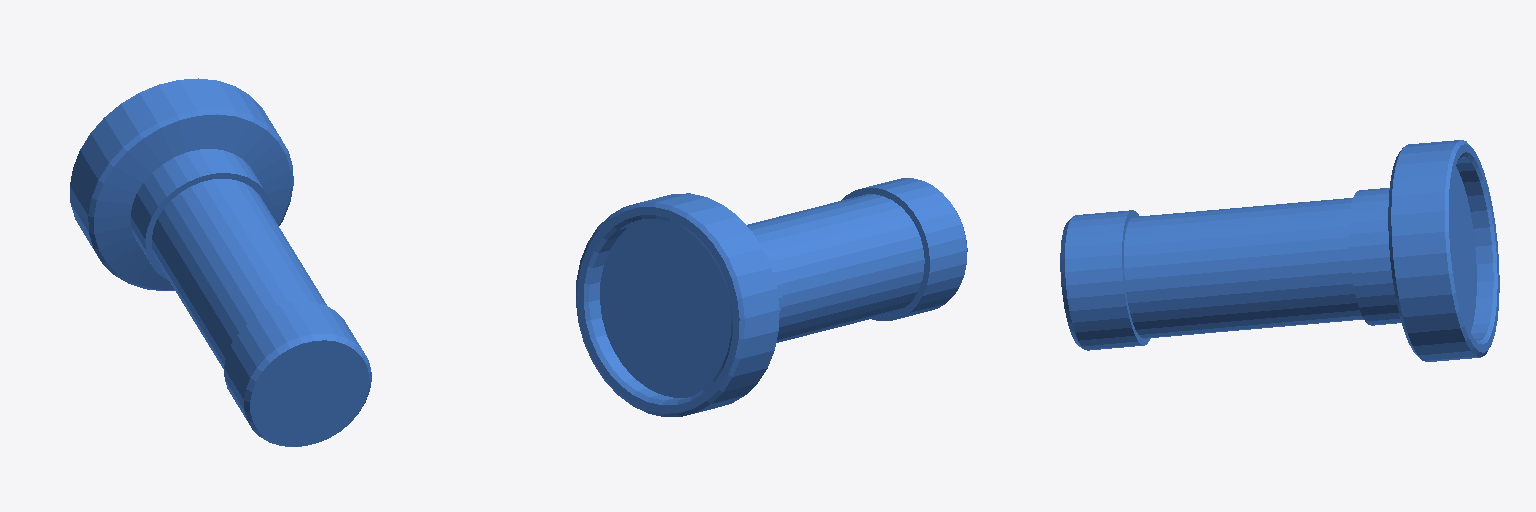
Rendered from Shepsel.obj.
3 renders of one model, left to right at view 1: azimuth 30°, elevation 25°; view 2: azimuth 150°, elevation 25°; view 3: azimuth 270°, elevation 25°, orthographic.
Visible parts, largest first — view 1: Cylinder019; view 2: Cylinder019; view 3: Cylinder019.
Boxes of the visible parts, x1=… form: Cylinder019: x1=70, y1=78, x2=371, y2=446; Cylinder019: x1=576, y1=178, x2=967, y2=416; Cylinder019: x1=1060, y1=140, x2=1499, y2=361.
Size of the model in its own units: 498 by 501 by 900.